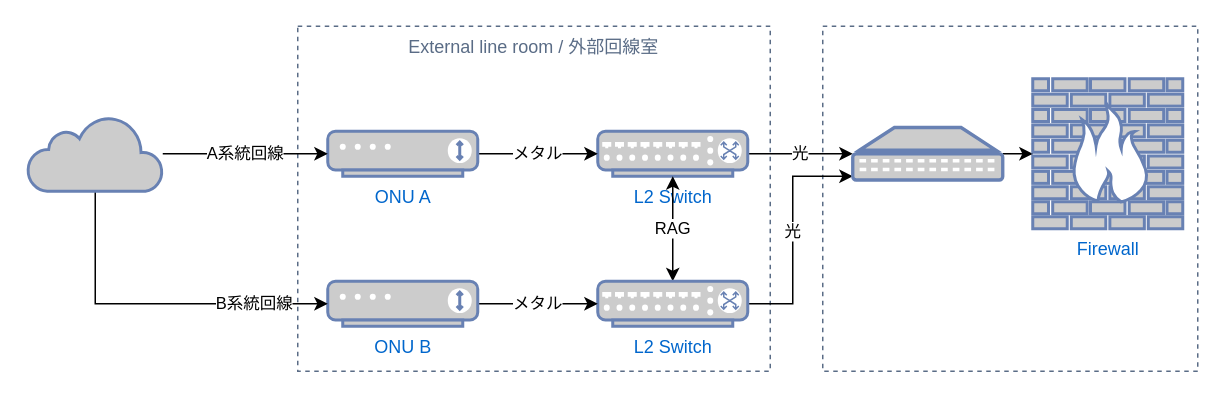
This 1224x398 diagram has some shape labels left out. The shapes that lost their labels are listed below. From the top down, each one's box as (x1, y1, x2, y2) in pixels, then its label:
(26, 114, 164, 192): ISP A
(850, 125, 1004, 181): patch panel
(821, 25, 1198, 371): Server Room / サーバー室
